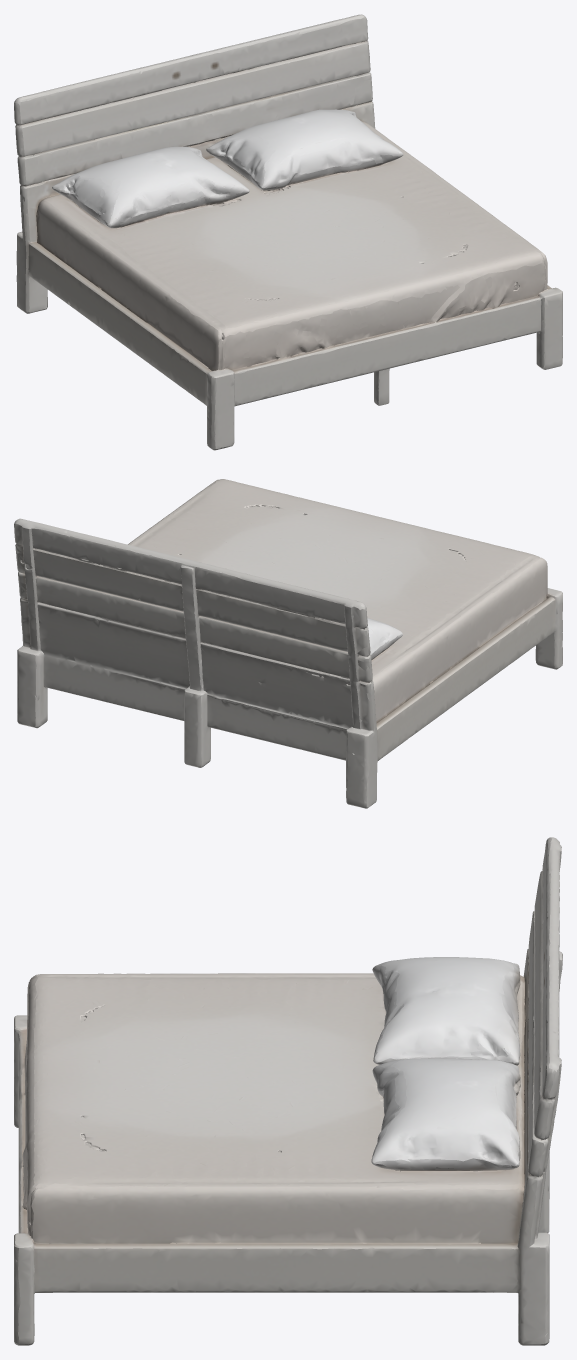
Rendered from item_27054600.glb.
3 renders of one model, top to bottom at view 1: azimuth 30°, elevation 25°; view 2: azimuth 150°, elevation 25°; view 3: azimuth 270°, elevation 25°, orthographic. The views are drawn at different scales.
Parts seen in each view (by area): view 1: world; view 2: world; view 3: world.
Boxes of the visible parts, <box> form: world: <box>14,14,562,450</box>; world: <box>14,479,562,808</box>; world: <box>14,837,562,1345</box>.
Bounding box in the file's own units: 2 × 1.13 × 2.
1 material, 1 textured.
